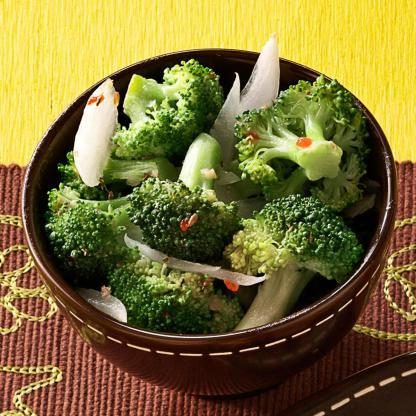broccoli: (38, 31, 376, 332)
